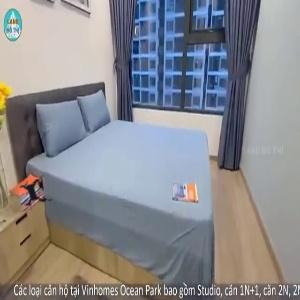drone: (5, 162, 67, 224)
